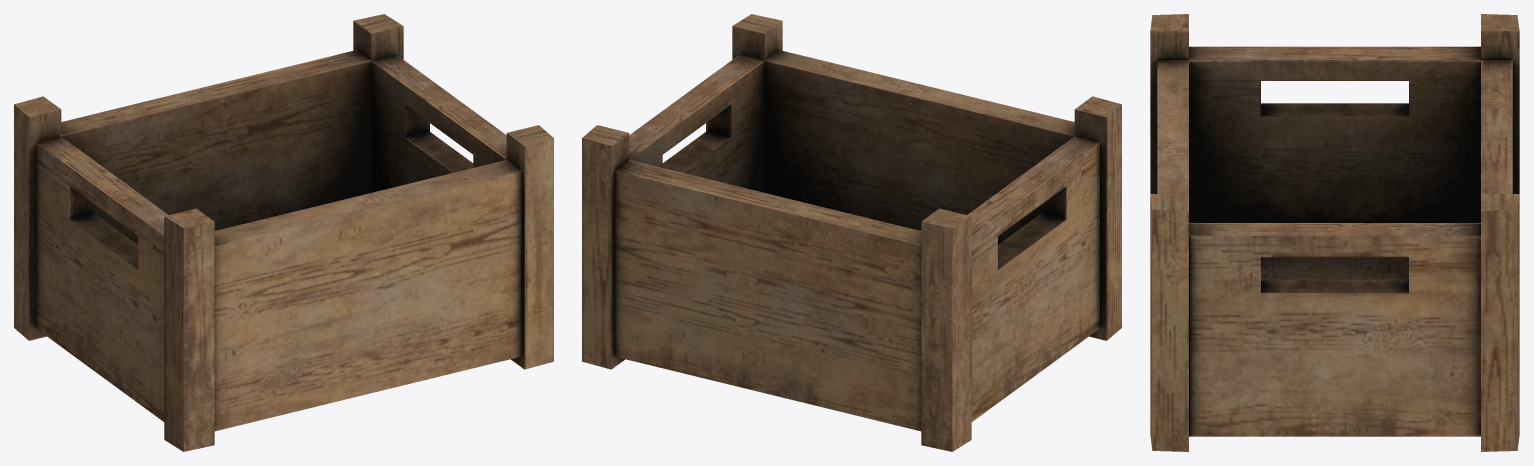
Rendered from Wood_Box.fbx.
The picture shows the model from 3 angles, left to right: view 1: azimuth 30°, elevation 25°; view 2: azimuth 150°, elevation 25°; view 3: azimuth 270°, elevation 25°; orthographic projection. The views are drawn at different scales.
Parts seen in each view (by area): view 1: Wood_Box; view 2: Wood_Box; view 3: Wood_Box.
Boxes of the visible parts, box(x1,y1,x2,y2) form: Wood_Box: box(14, 14, 553, 451); Wood_Box: box(582, 14, 1121, 451); Wood_Box: box(1150, 14, 1519, 451).
Size of what is drawn, in the model's own units: 86.81 by 49.56 by 68.79.
1 material, 1 textured.
